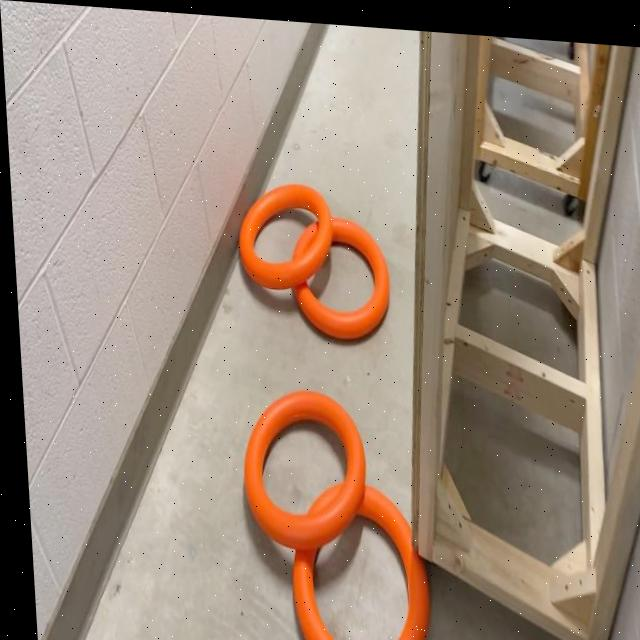note: (281, 473, 428, 640), (233, 381, 365, 552), (285, 207, 391, 342), (233, 173, 333, 288)
